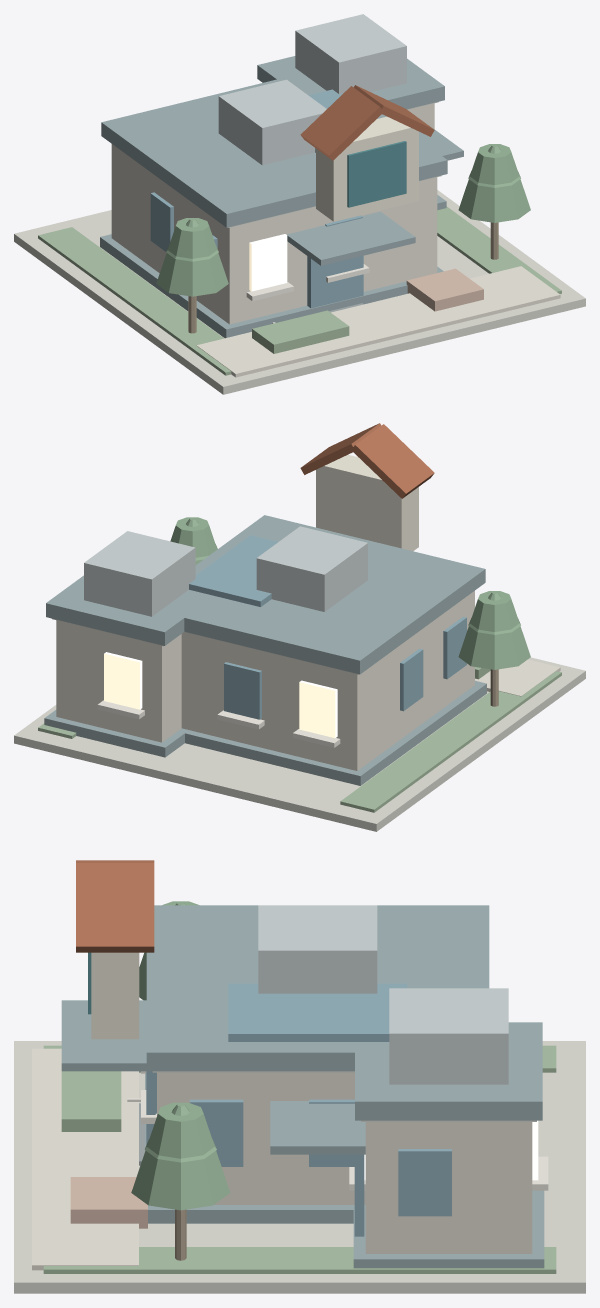
The model's file is remaster_house_0.glb.
3 renders of one model, top to bottom at view 1: azimuth 30°, elevation 25°; view 2: azimuth 150°, elevation 25°; view 3: azimuth 270°, elevation 25°, orthographic. The views are drawn at different scales.
Parts seen in each view (by area): view 1: remaster_house_0 cream, remaster_house_0 roof, remaster_house_0 stone, remaster_house_0 metal, remaster_house_0 green, remaster_house_0 leaf, Dormer face, remaster_house_0 glass, Dormer glazing, Dormer roof, remaster_house_0 brick, remaster_house_0 warm (+3 smaller); view 2: remaster_house_0 cream, remaster_house_0 roof, remaster_house_0 stone, remaster_house_0 metal, remaster_house_0 glass, Dormer face, remaster_house_0 green, remaster_house_0 leaf, remaster_house_0 warm, Dormer roof, remaster_house_0 white, Dormer roof.001; view 3: remaster_house_0 roof, remaster_house_0 cream, remaster_house_0 stone, remaster_house_0 metal, remaster_house_0 glass, remaster_house_0 green, remaster_house_0 leaf, Dormer roof.001, Dormer face, remaster_house_0 brick, remaster_house_0 white, remaster_house_0 bark.
Part boxes in pixels (left/top/right/bottom): remaster_house_0 cream: left=111, top=103, right=560, bottom=377; remaster_house_0 roof: left=100, top=56, right=463, bottom=338; remaster_house_0 stone: left=14, top=101, right=585, bottom=394; remaster_house_0 metal: left=218, top=14, right=406, bottom=165; remaster_house_0 green: left=38, top=206, right=561, bottom=375; remaster_house_0 leaf: left=156, top=144, right=530, bottom=296; Dormer face: left=316, top=116, right=418, bottom=221; remaster_house_0 glass: left=150, top=89, right=377, bottom=308; Dormer glazing: left=347, top=141, right=406, bottom=207; Dormer roof: left=300, top=86, right=383, bottom=160; remaster_house_0 brick: left=406, top=268, right=483, bottom=311; remaster_house_0 warm: left=249, top=234, right=287, bottom=291; remaster_house_0 cream: left=56, top=591, right=560, bottom=770; remaster_house_0 roof: left=44, top=515, right=486, bottom=785; remaster_house_0 stone: left=14, top=618, right=585, bottom=831; remaster_house_0 metal: left=84, top=526, right=367, bottom=616; remaster_house_0 glass: left=189, top=535, right=466, bottom=719; Dormer face: left=316, top=454, right=418, bottom=550; remaster_house_0 green: left=38, top=667, right=561, bottom=812; remaster_house_0 leaf: left=170, top=517, right=530, bottom=669; remaster_house_0 warm: left=104, top=652, right=337, bottom=737; Dormer roof: left=351, top=424, right=434, bottom=498; remaster_house_0 white: left=97, top=700, right=340, bottom=747; Dormer roof.001: left=300, top=423, right=381, bottom=474; remaster_house_0 roof: left=61, top=905, right=544, bottom=1268; remaster_house_0 cream: left=32, top=1048, right=532, bottom=1270; remaster_house_0 stone: left=14, top=1041, right=585, bottom=1293; remaster_house_0 metal: left=258, top=905, right=508, bottom=1084; remaster_house_0 glass: left=146, top=983, right=451, bottom=1236; remaster_house_0 green: left=43, top=1045, right=556, bottom=1273; remaster_house_0 leaf: left=131, top=901, right=230, bottom=1210; Dormer roof.001: left=76, top=863, right=154, bottom=952; Dormer face: left=91, top=952, right=139, bottom=1039; remaster_house_0 brick: left=70, top=1177, right=147, bottom=1228; remaster_house_0 white: left=127, top=1071, right=548, bottom=1190; remaster_house_0 bark: left=175, top=1209, right=186, bottom=1260.
Size of the model in its own units: 9.64 by 5.76 by 9.6.
